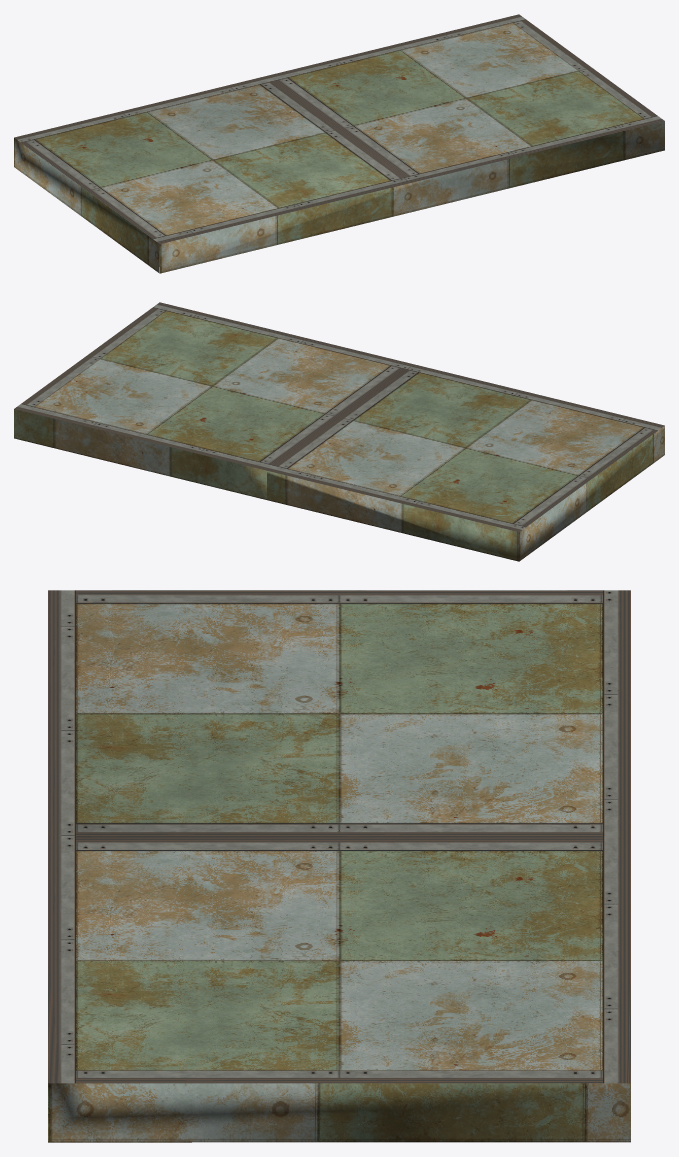
The model's file is Ob_GridPlatform2_RC.fbx.
The picture shows the model from 3 angles, top to bottom: view 1: azimuth 30°, elevation 25°; view 2: azimuth 150°, elevation 25°; view 3: azimuth 270°, elevation 25°; orthographic projection. The views are drawn at different scales.
Parts seen in each view (by area): view 1: Ob_GridPlatform2_RC; view 2: Ob_GridPlatform2_RC; view 3: Ob_GridPlatform2_RC.
Part boxes in pixels (x1,y1,x2,y2): Ob_GridPlatform2_RC: (14, 14, 664, 273); Ob_GridPlatform2_RC: (14, 302, 664, 561); Ob_GridPlatform2_RC: (48, 590, 630, 1142).
Size of the model in its own units: 2002 by 112 by 1000.
